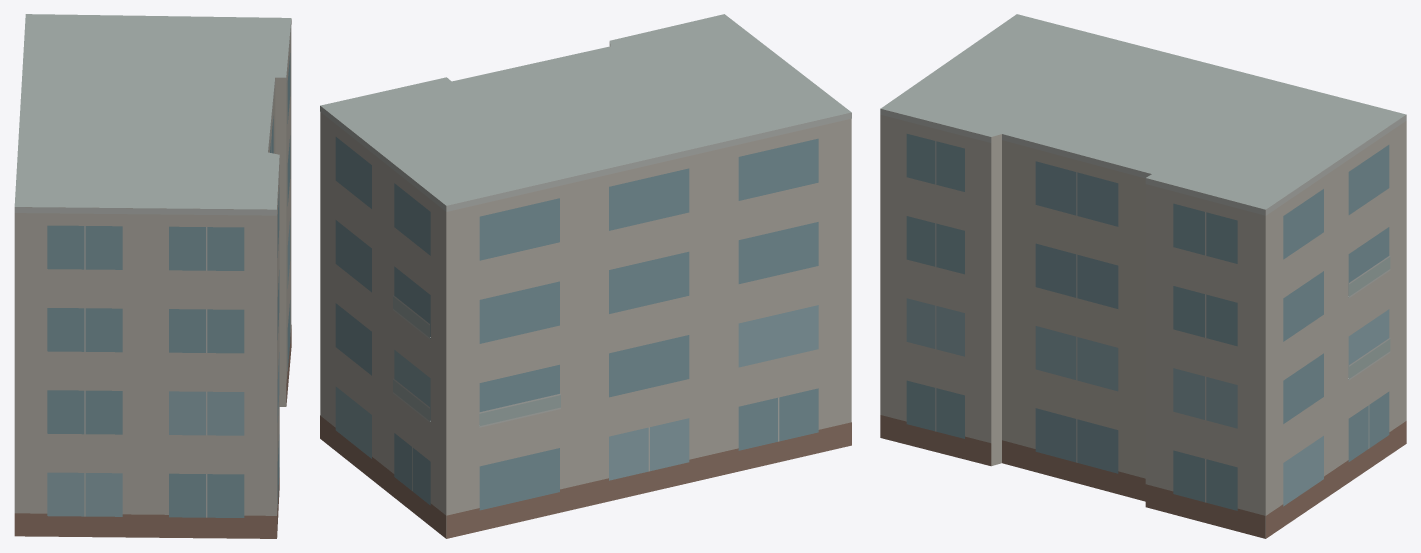
File: survey-upis-32544605.glb
3 views of the same model, side by side, from view 1: azimuth 30°, elevation 25°; view 2: azimuth 150°, elevation 25°; view 3: azimuth 270°, elevation 25° (orthographic).
Parts seen in each view (by area): view 1: survey-upis-32544605.tmp; view 2: survey-upis-32544605.tmp; view 3: survey-upis-32544605.tmp.
Part boxes in pixels (x1,y1,x2,y2): survey-upis-32544605.tmp: (14,14,291,538); survey-upis-32544605.tmp: (320,14,851,538); survey-upis-32544605.tmp: (880,14,1406,538).
Size of the model in its own units: 16.84 by 13.2 by 19.13.
